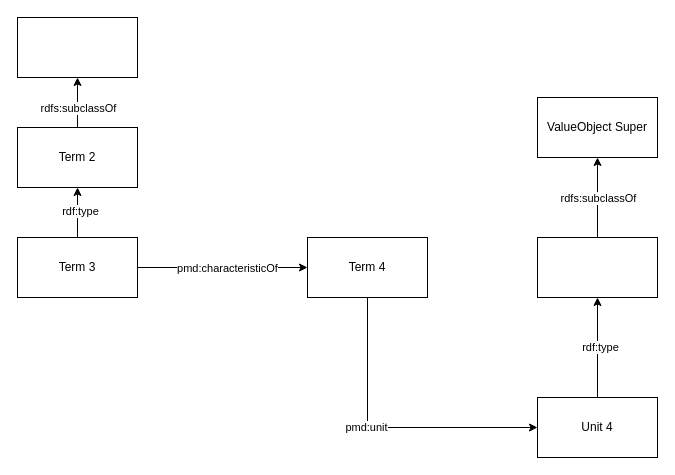
Some shapes in this 675 by 475 pixel diagram are drawn without their labels. The centre of each missing label's shape, as x and y in pixels:
Term 1: pixel 77 47
Unit Super: pixel 597 267
